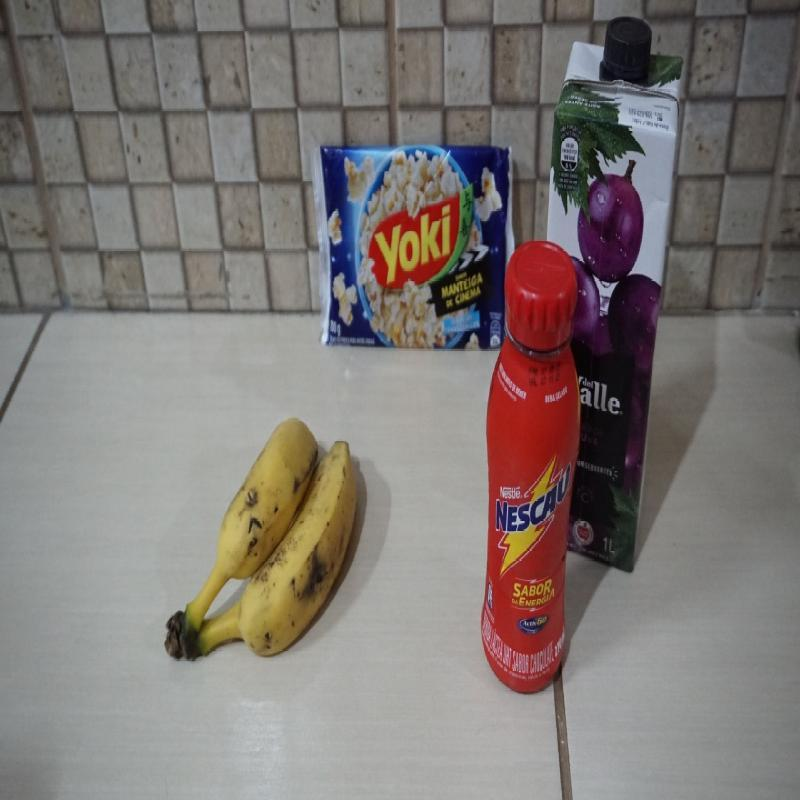Banana: (165, 415, 361, 664)
Chocolate Milk: (481, 242, 581, 694)
Popcorn: (313, 139, 516, 358)
